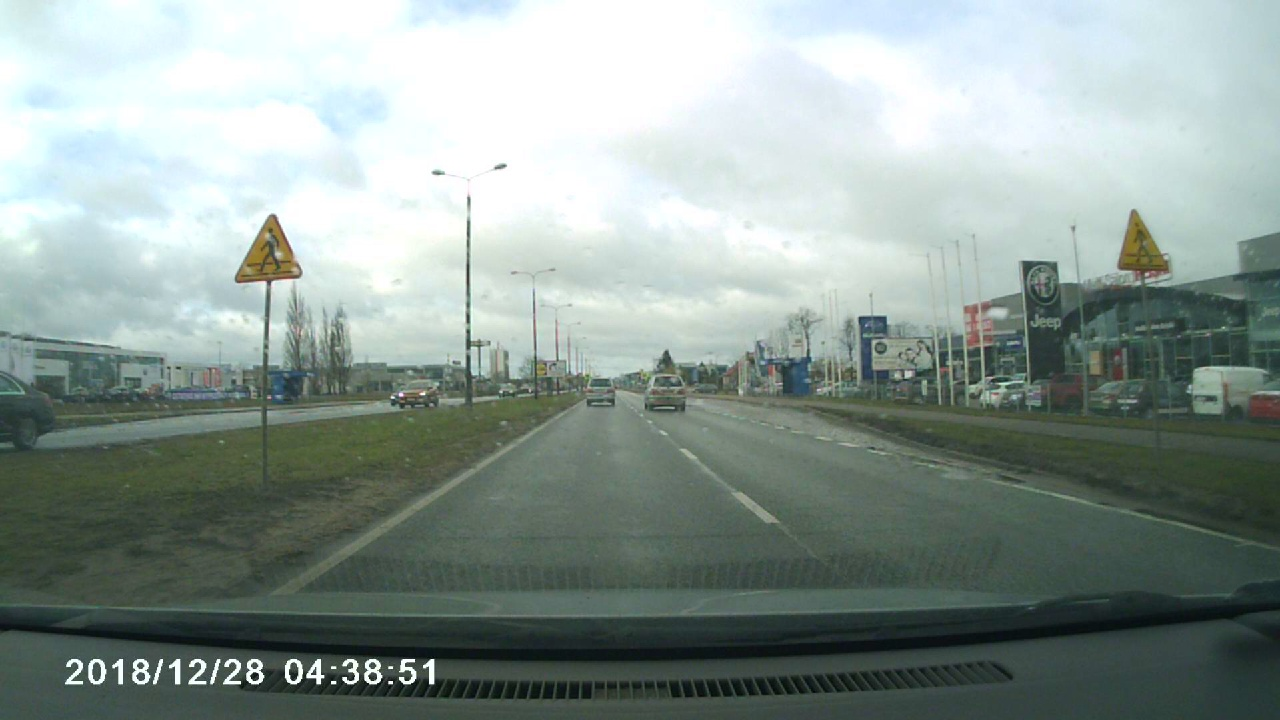A16: (231, 213, 305, 281), (1110, 205, 1172, 272)
